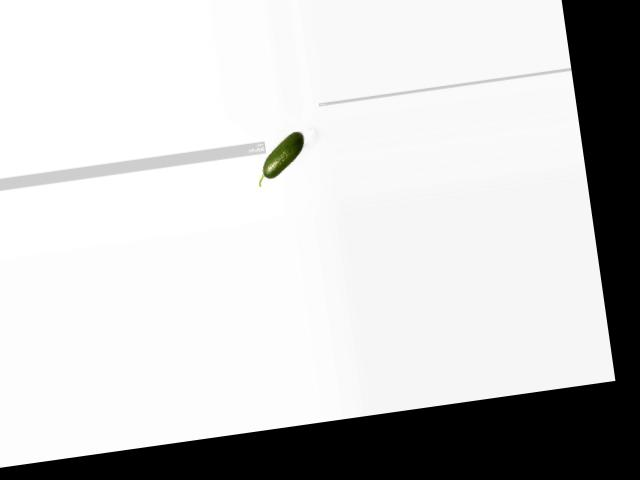cucumber: (251, 130, 308, 186)
